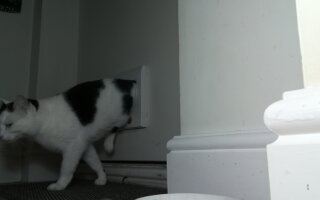bad: (3, 75, 143, 198)
